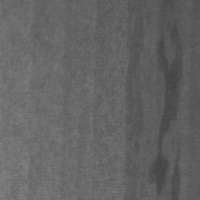inclusion: (148, 19, 191, 199), (120, 1, 149, 199)
